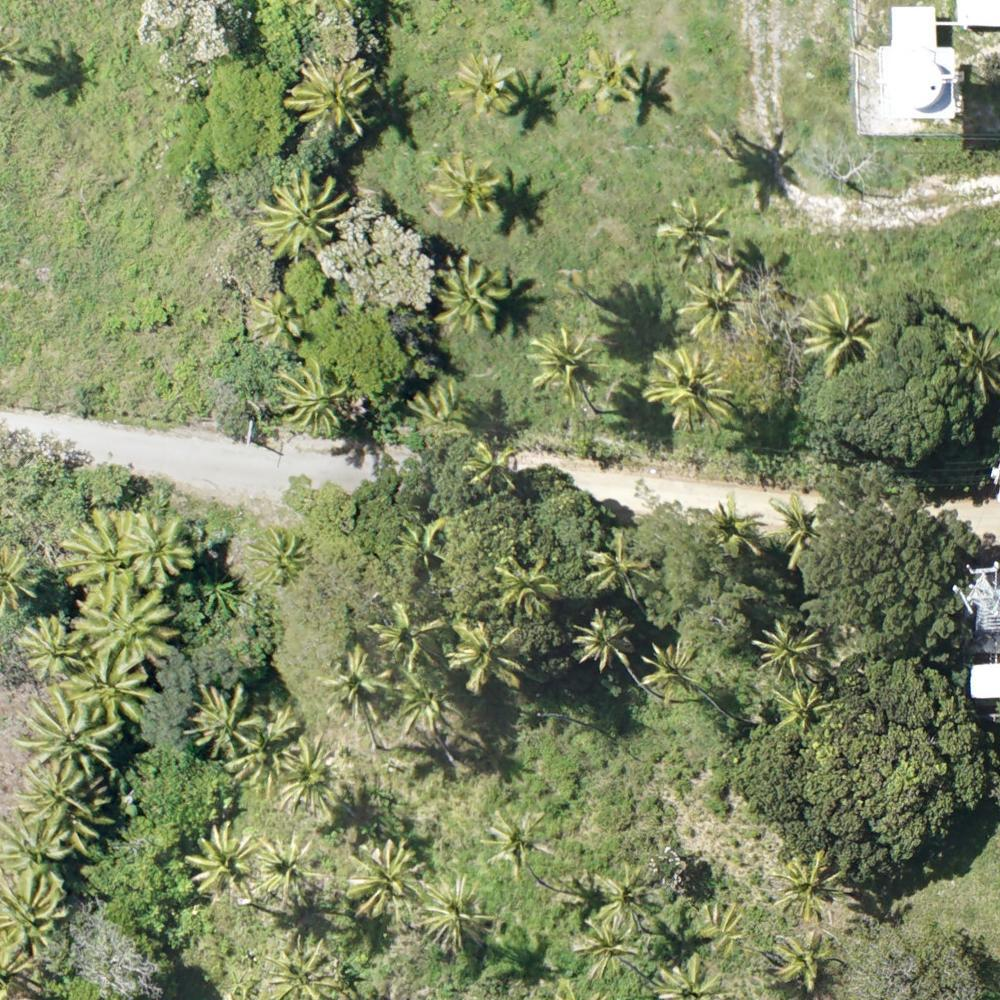Palm: (17, 682, 122, 777), (76, 589, 172, 675), (257, 168, 347, 255), (288, 49, 372, 133), (649, 349, 734, 429), (58, 511, 134, 598), (350, 843, 428, 923), (274, 738, 352, 816), (799, 291, 876, 368), (319, 642, 397, 716), (432, 258, 511, 331), (186, 824, 261, 900), (1, 869, 70, 951), (445, 619, 523, 690), (191, 683, 263, 759), (120, 511, 196, 582), (525, 329, 601, 399), (252, 835, 325, 906), (658, 197, 732, 267), (15, 609, 88, 679), (16, 764, 92, 831), (278, 360, 345, 435), (428, 152, 498, 223), (487, 802, 556, 874), (256, 935, 333, 998), (573, 914, 642, 980), (766, 497, 831, 567), (770, 850, 836, 918), (246, 525, 312, 592), (429, 879, 493, 948), (678, 269, 743, 335), (451, 51, 518, 115), (752, 618, 821, 680), (236, 715, 297, 785), (769, 682, 838, 741), (590, 860, 655, 922), (497, 555, 558, 621), (580, 48, 642, 109), (572, 608, 634, 667), (772, 931, 836, 988), (403, 668, 461, 729), (642, 638, 701, 696), (709, 496, 765, 555), (252, 288, 304, 349), (466, 438, 520, 493)
